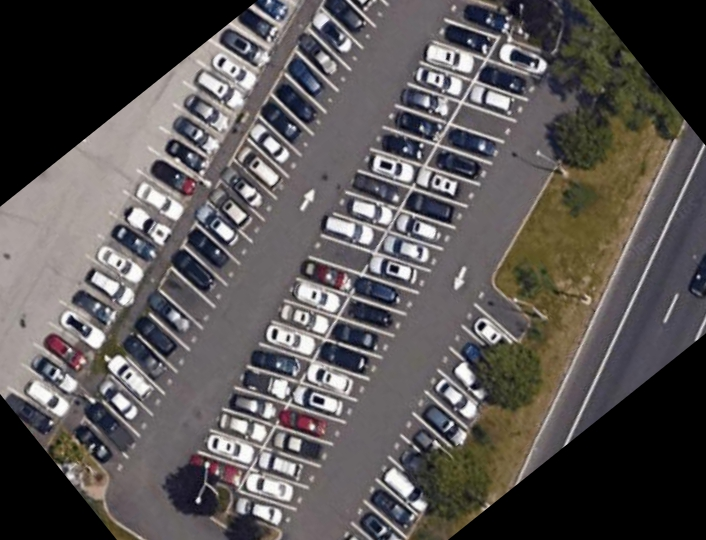parkingspot: (170, 0, 561, 536), (67, 0, 395, 489), (0, 0, 305, 451), (338, 275, 535, 540)
